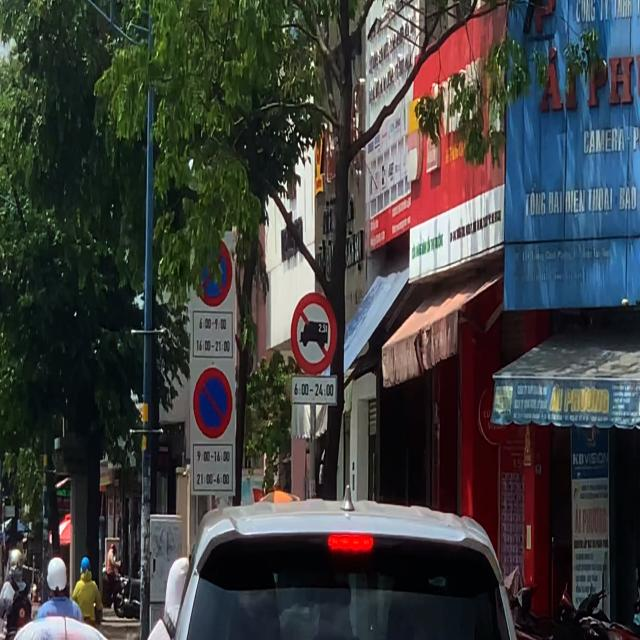Cam con lai: (290, 292, 338, 375)
Cam do: (193, 366, 233, 439)
Cam dung va do: (193, 237, 233, 306)
